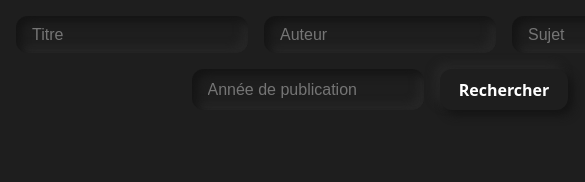
Test: AdvancedSearch › affiche un message d'erreur en cas d'échec de l'API
Type "Livre impossible" into the field with placeholder "Titre" at coordinates (132, 35), box [16,16,248,53]
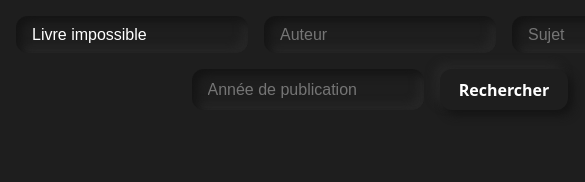
Click the button "Rechercher" at coordinates (504, 90), box [440,69,568,110]
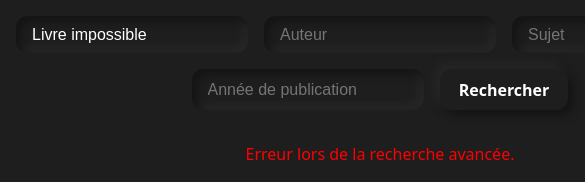
Result: the text "Erreur lors de la recherche avancée." is shown at [246,143,514,165]
